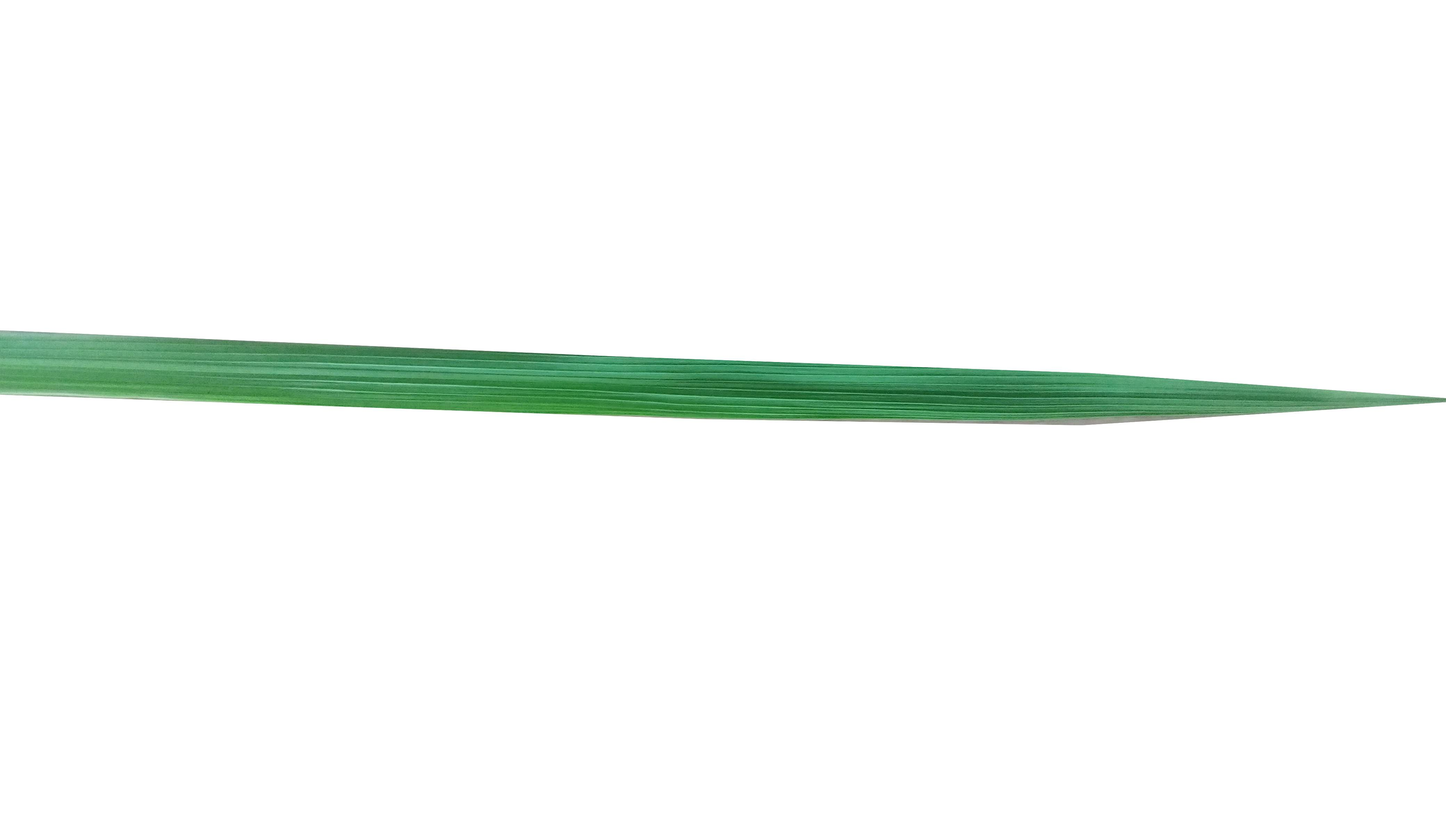Healthy: (0, 333, 1422, 426)
